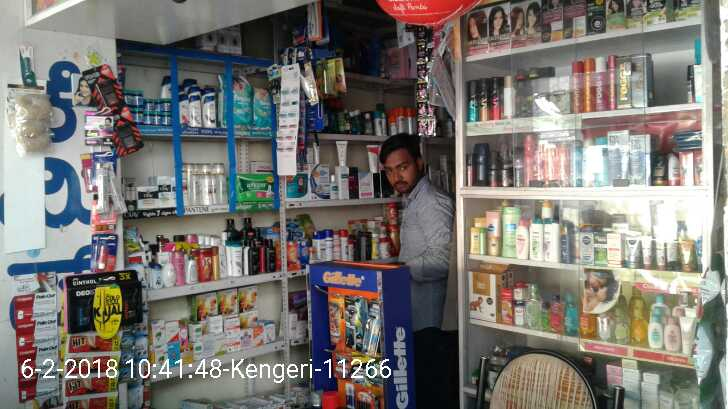beauty: (181, 173, 229, 206), (340, 286, 361, 349), (250, 86, 276, 130), (232, 81, 252, 130), (201, 92, 220, 127), (185, 92, 202, 128), (156, 174, 173, 207), (136, 185, 159, 208), (174, 89, 188, 124)
pharmacy: (234, 171, 277, 203), (130, 88, 145, 108), (162, 97, 173, 113), (141, 110, 152, 124), (153, 112, 163, 127), (142, 97, 152, 111), (152, 98, 162, 112), (130, 110, 141, 122), (162, 113, 172, 124)
